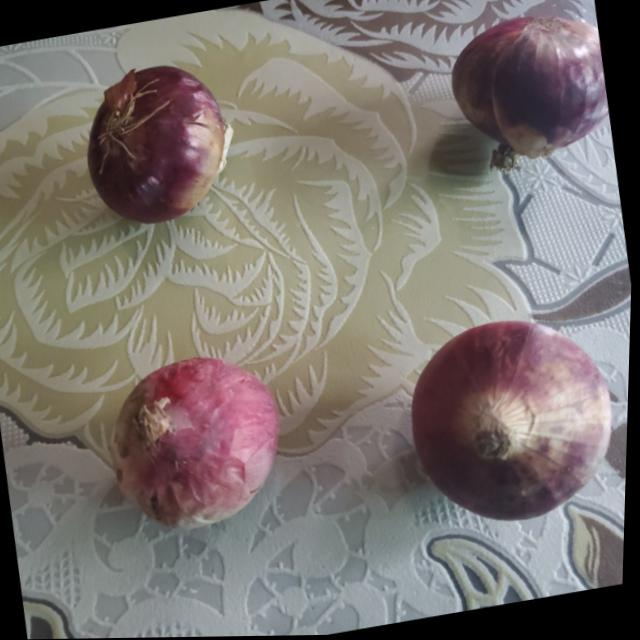onion: (396, 308, 628, 536), (107, 347, 295, 538), (71, 57, 240, 236), (444, 8, 617, 173)
